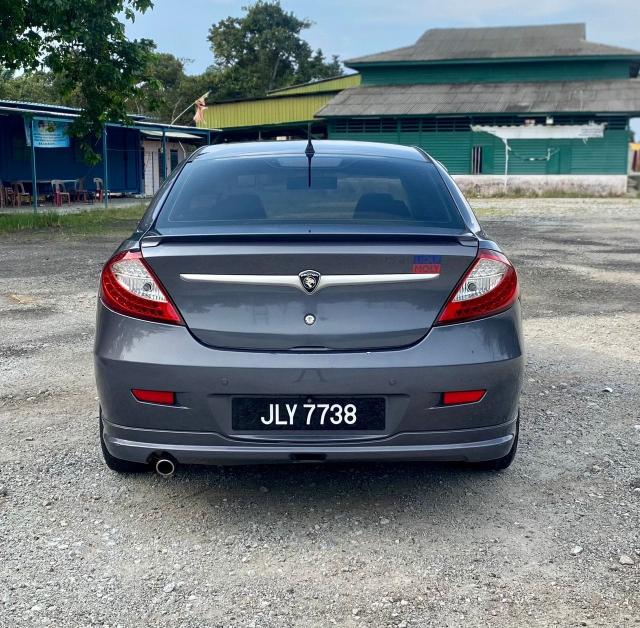License_Plate: (240, 395, 376, 435)
car: (96, 132, 526, 483)
